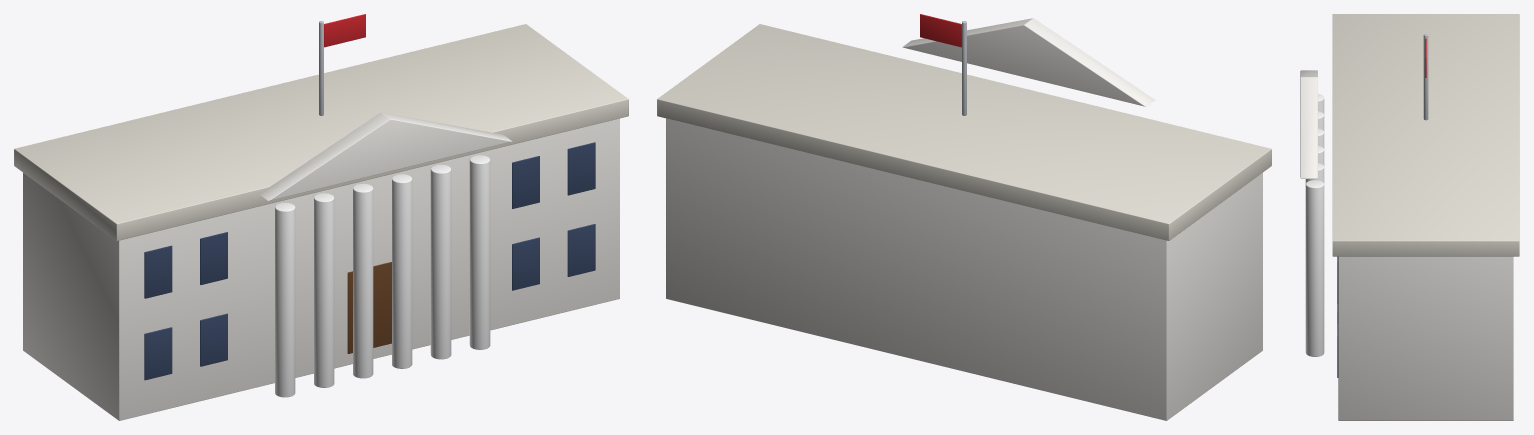
File: white_house.glb
3 views of the same model, side by side, from view 1: azimuth 30°, elevation 25°; view 2: azimuth 150°, elevation 25°; view 3: azimuth 270°, elevation 25° (orthographic). The views are drawn at different scales.
Visible parts, largest first — view 1: white_house; view 2: white_house; view 3: white_house.
Part boxes in pixels (x1=…): white_house: x1=14, y1=14, x2=628, y2=420; white_house: x1=657, y1=14, x2=1271, y2=420; white_house: x1=1300, y1=14, x2=1519, y2=420.
Size of the model in its own units: 9.2 by 5.2 by 3.75.
